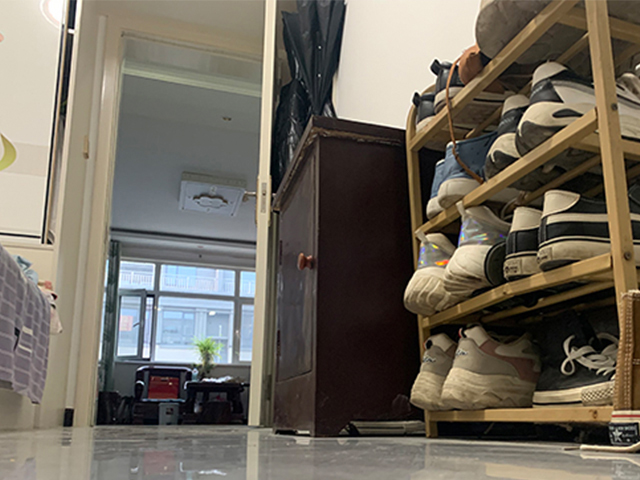cabinet: (270, 114, 420, 438)
stool: (132, 365, 192, 424)
table: (182, 381, 246, 424)
trashcan: (157, 401, 179, 424)
